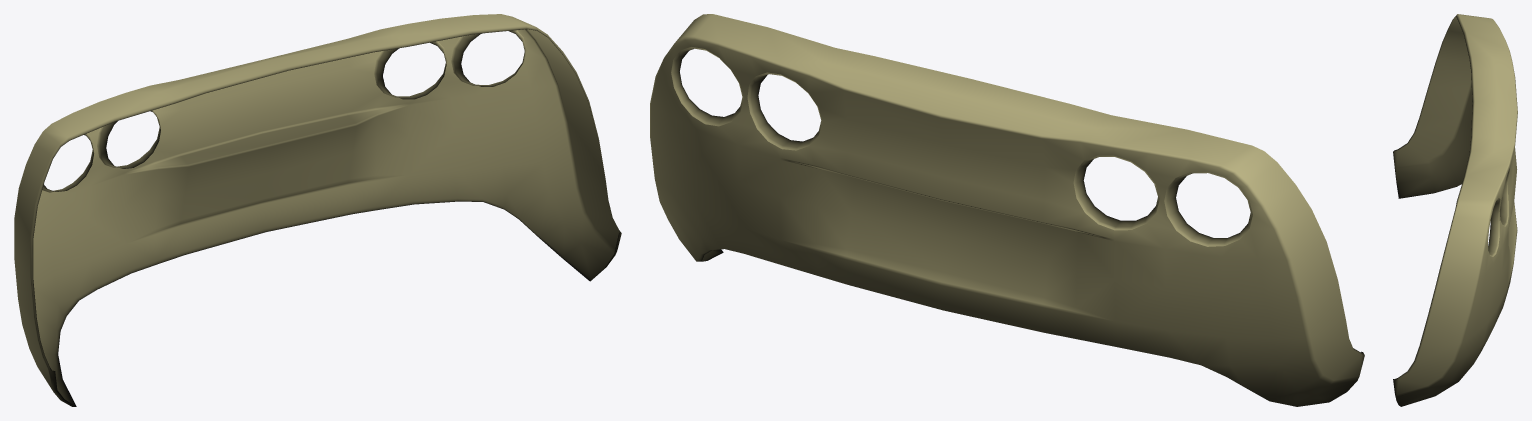
The model's file is Zr1_RB_01_Duco.fbx.
3 views of the same model, side by side, from view 1: azimuth 30°, elevation 25°; view 2: azimuth 150°, elevation 25°; view 3: azimuth 270°, elevation 25° (orthographic). The views are drawn at different scales.
Parts seen in each view (by area): view 1: Zr1_RB_01_Duco; view 2: Zr1_RB_01_Duco; view 3: Zr1_RB_01_Duco.
Part boxes in pixels (x1=…): Zr1_RB_01_Duco: x1=14, y1=14, x2=621, y2=406; Zr1_RB_01_Duco: x1=650, y1=14, x2=1364, y2=406; Zr1_RB_01_Duco: x1=1393, y1=14, x2=1517, y2=406.
Bounding box in the file's own units: 178 × 72.71 × 40.89.
